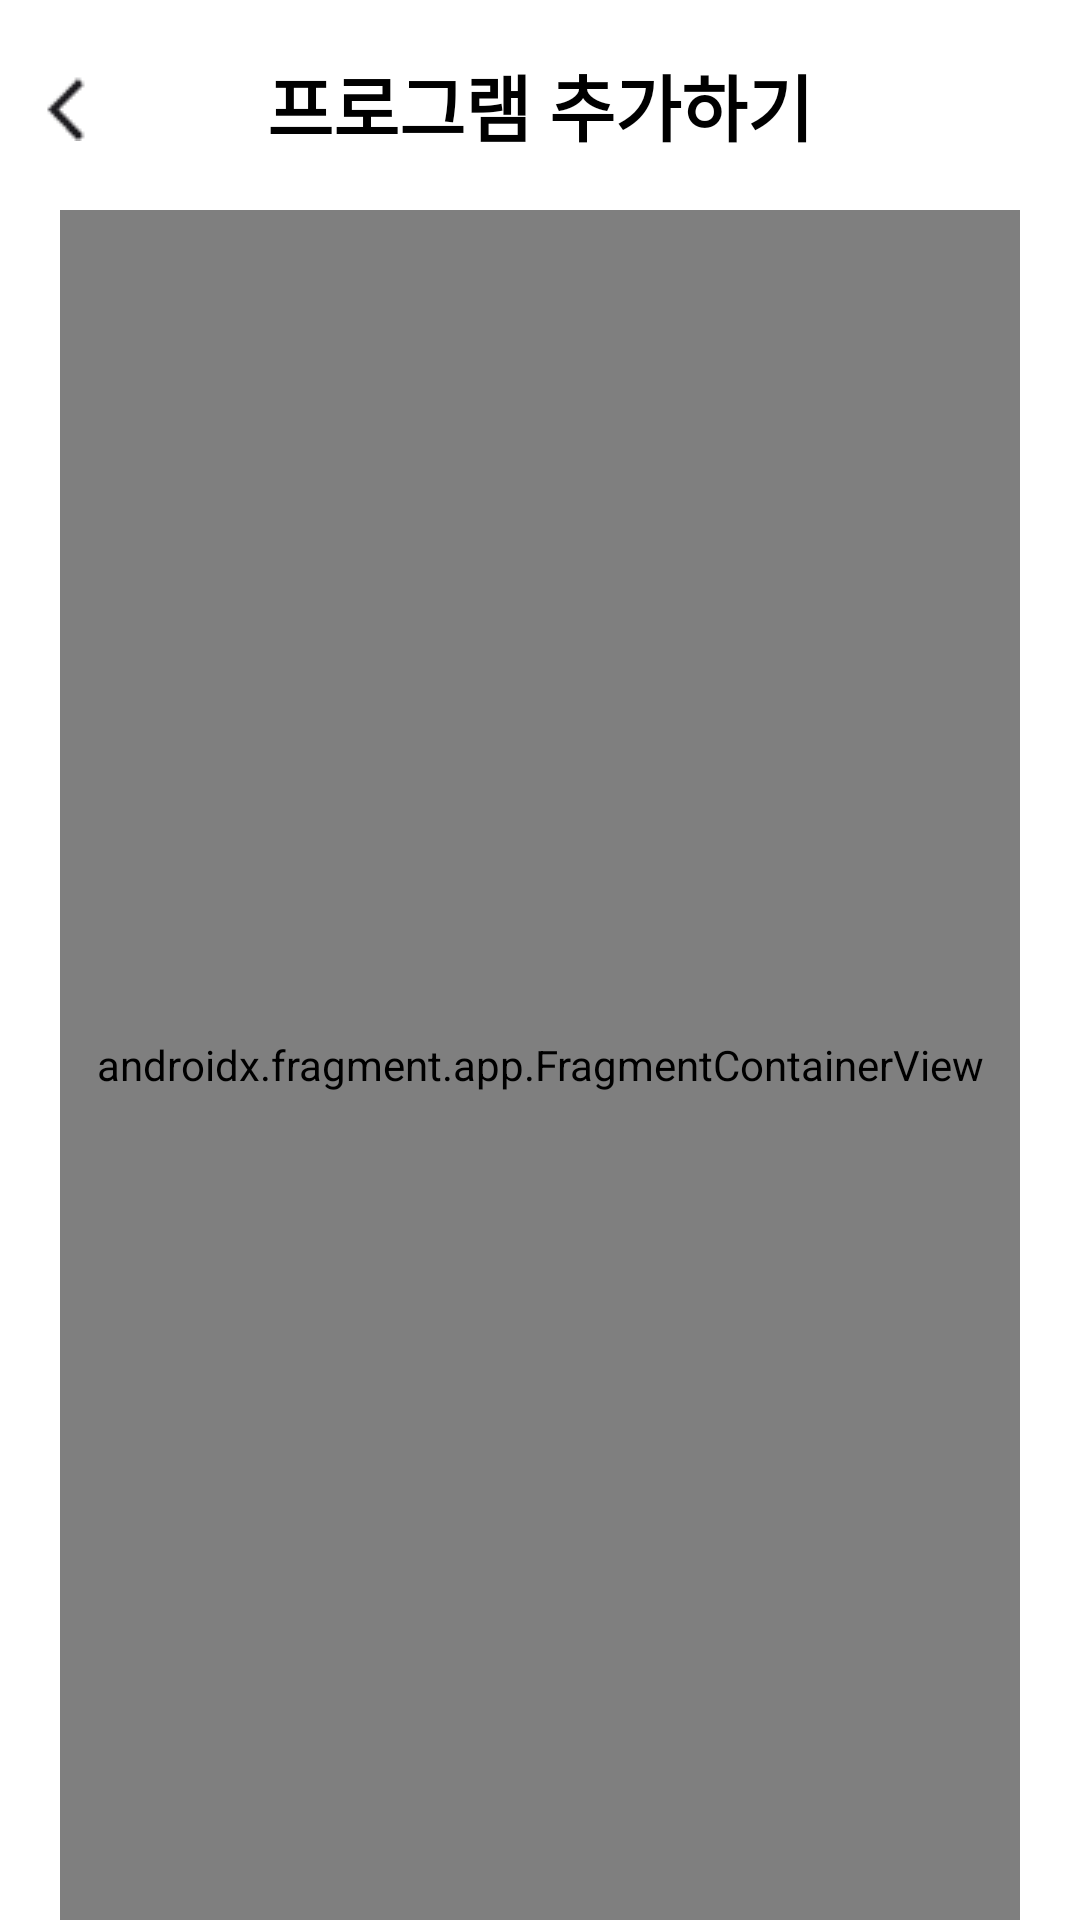

Point at icon controls on the screen. Image size 1080*1920, points as point (x, y).
arrow back: point (66, 109)
